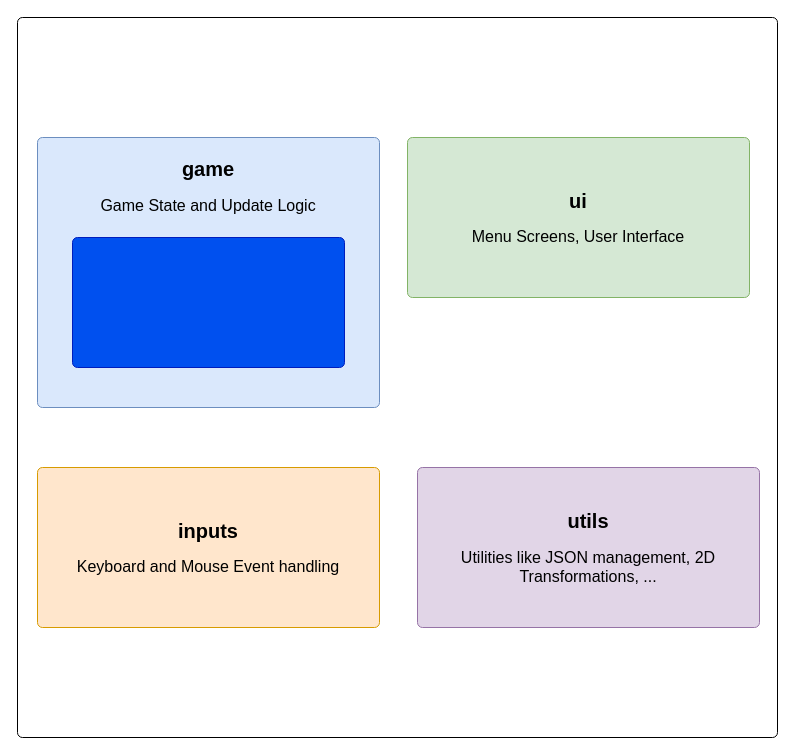
This 795x755 diagram has some shape labels left out. The shapes that lost their labels are listed below. From the top down, each one's centre as x and y in pixels, then its label:
the point at 397,77: Polygon Wars
the point at 208,302: enemies Enemy behaviors and types
